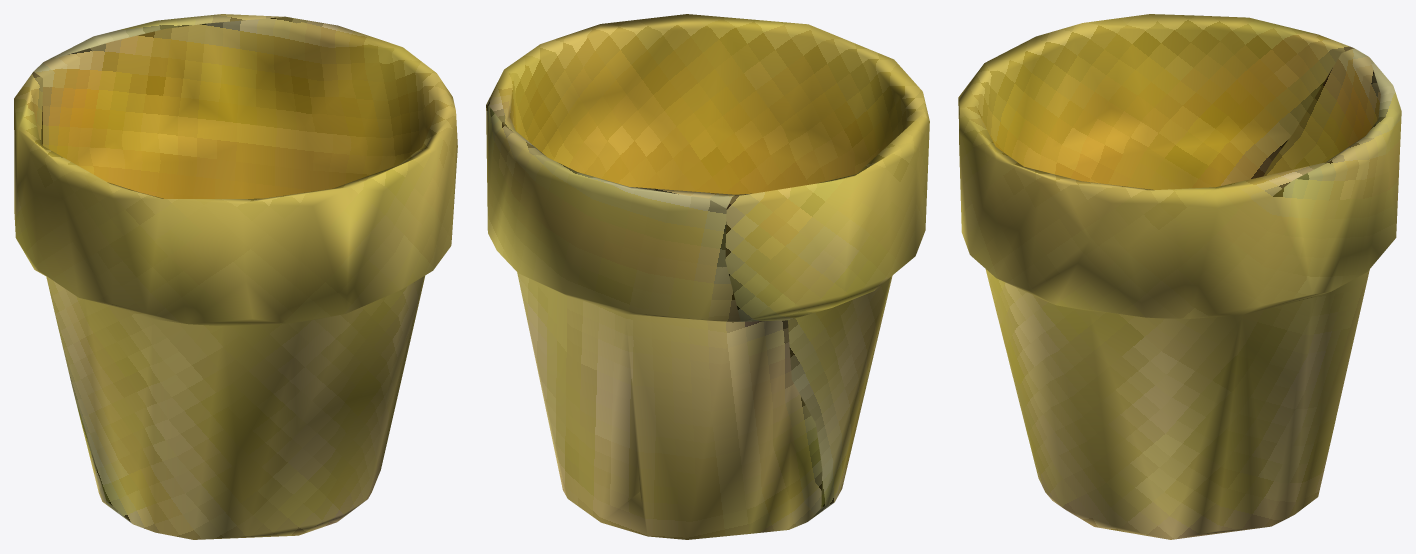
The model's file is Pennington_Electric_Pot_Cabana_4-low.glb.
3 renders of one model, left to right at view 1: azimuth 30°, elevation 25°; view 2: azimuth 150°, elevation 25°; view 3: azimuth 270°, elevation 25°, orthographic.
Visible parts, largest first — view 1: Pennington_Electric_Pot_Cabana_4; view 2: Pennington_Electric_Pot_Cabana_4; view 3: Pennington_Electric_Pot_Cabana_4.
Boxes of the visible parts, x1=… form: Pennington_Electric_Pot_Cabana_4: x1=14, y1=14, x2=457, y2=539; Pennington_Electric_Pot_Cabana_4: x1=486, y1=14, x2=929, y2=539; Pennington_Electric_Pot_Cabana_4: x1=958, y1=14, x2=1401, y2=539.
Size of the model in its own units: 0.1025 by 0.0976 by 0.1022.
Materials: 1 (1 with a texture image).
